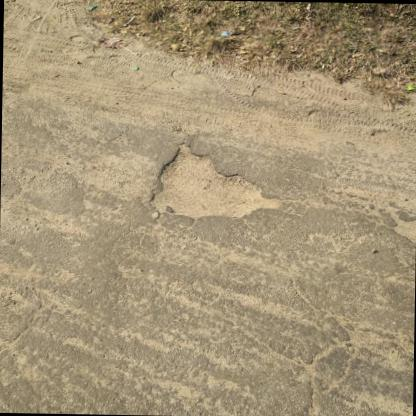pothole: (146, 138, 284, 223)
